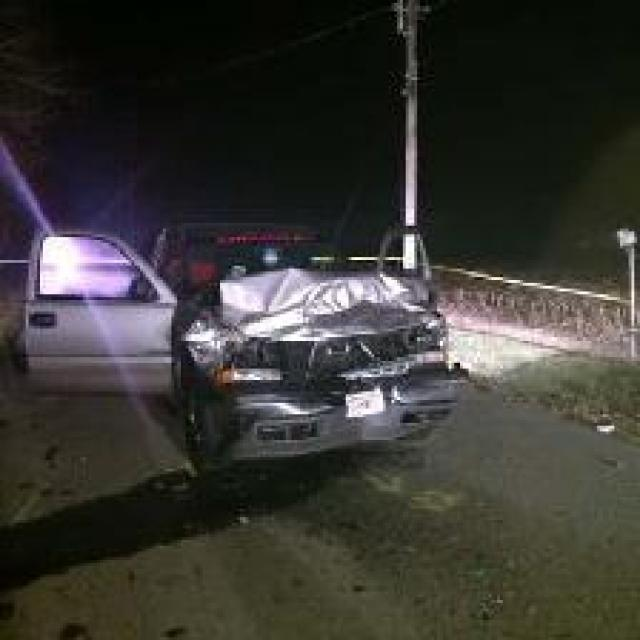damaged: (197, 266, 469, 457)
